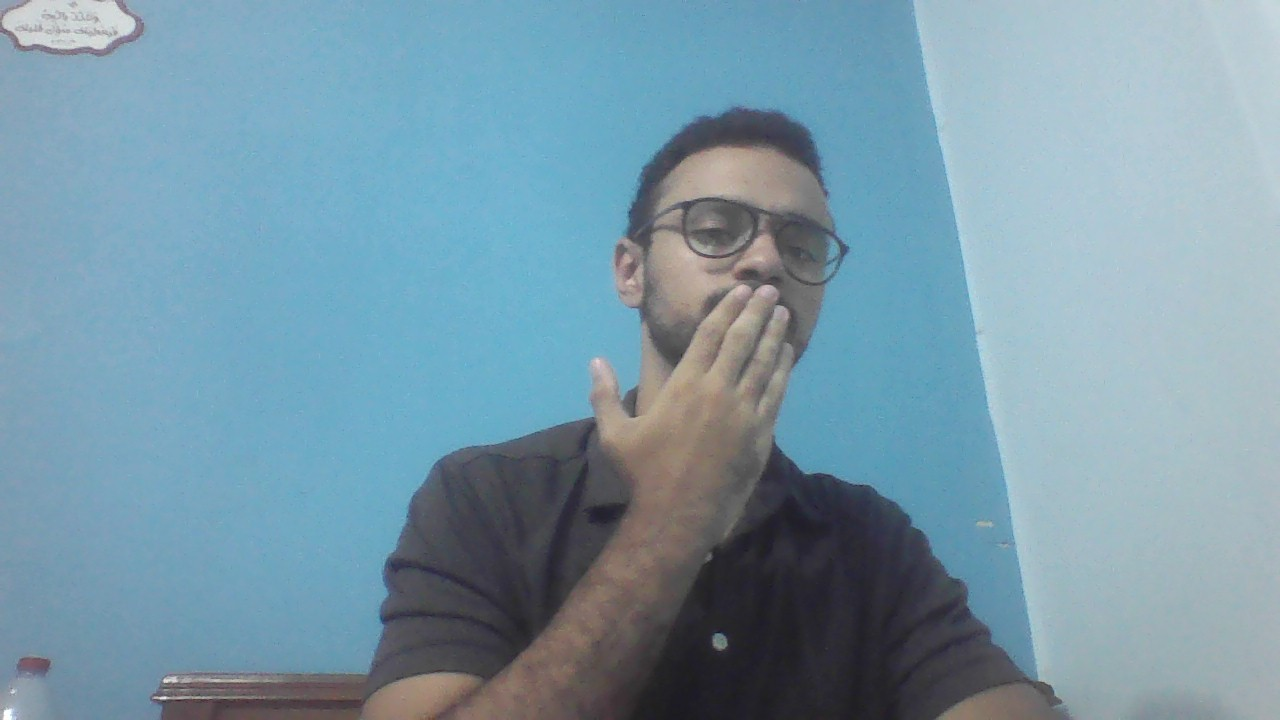thankyou: (586, 282, 796, 526)
